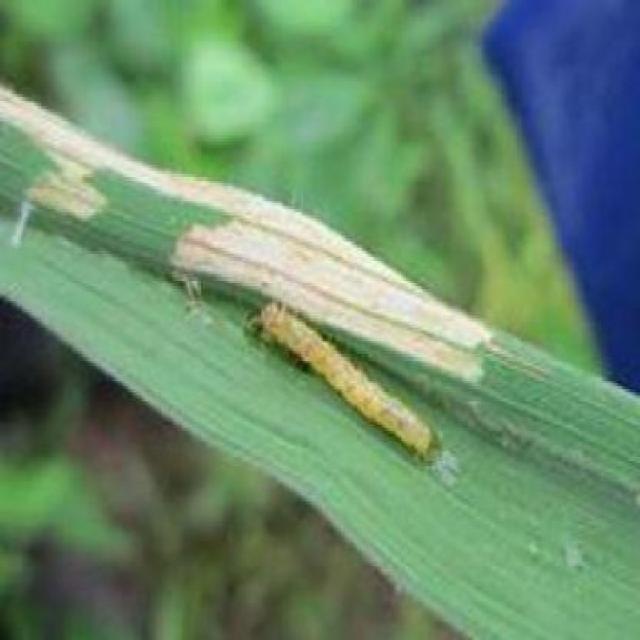leaf-folder: (240, 283, 452, 472)
